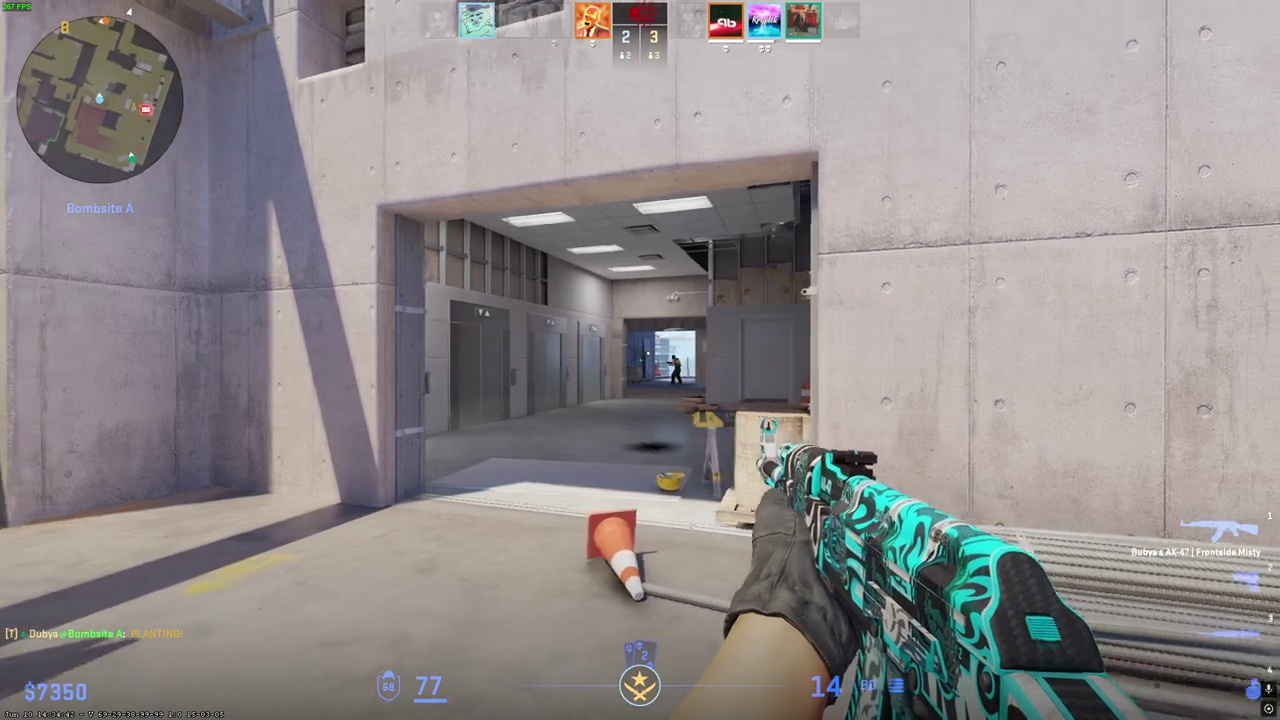Terrorist: (670, 355, 682, 384)
